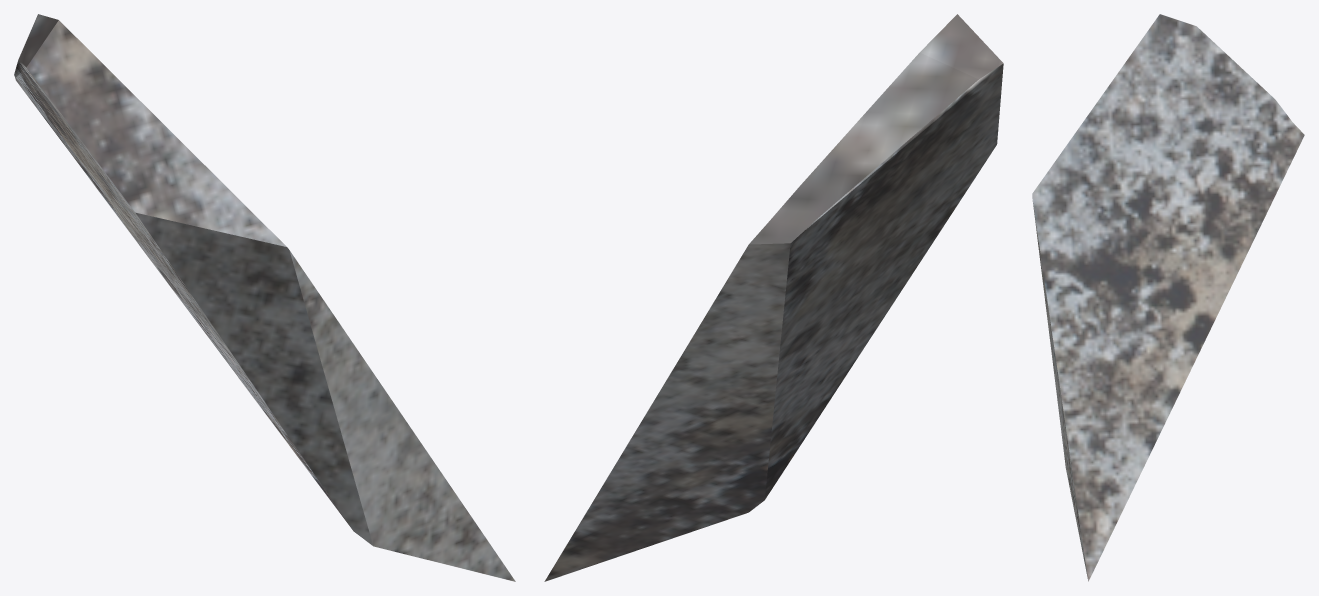
The model's file is Asteroid_Medium_001_02_003_03_007.fbx.
3 renders of one model, left to right at view 1: azimuth 30°, elevation 25°; view 2: azimuth 150°, elevation 25°; view 3: azimuth 270°, elevation 25°, orthographic. The views are drawn at different scales.
Parts seen in each view (by area): view 1: Asteroid_Medium_001_02_003_03_007; view 2: Asteroid_Medium_001_02_003_03_007; view 3: Asteroid_Medium_001_02_003_03_007.
Part boxes in pixels (x1=…): Asteroid_Medium_001_02_003_03_007: x1=14, y1=14, x2=515, y2=581; Asteroid_Medium_001_02_003_03_007: x1=544, y1=14, x2=1003, y2=581; Asteroid_Medium_001_02_003_03_007: x1=1032, y1=14, x2=1304, y2=581.
Size of the model in its own units: 5.62 by 7.58 by 4.34.
